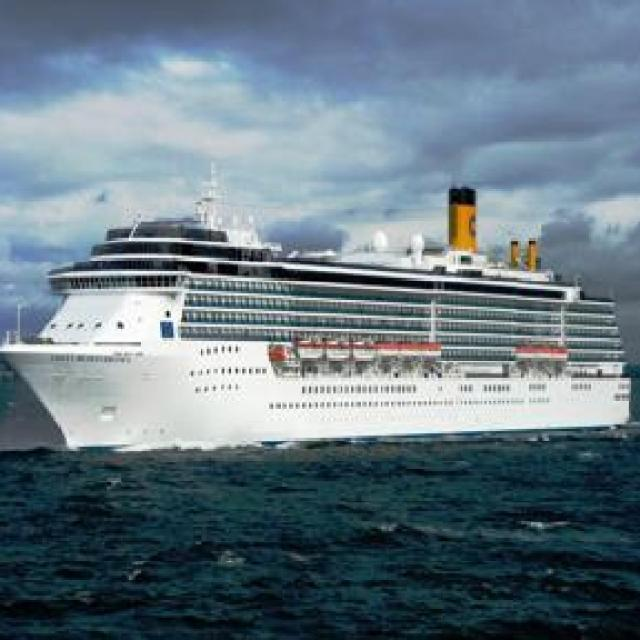passenger ship: (0, 160, 627, 447)
